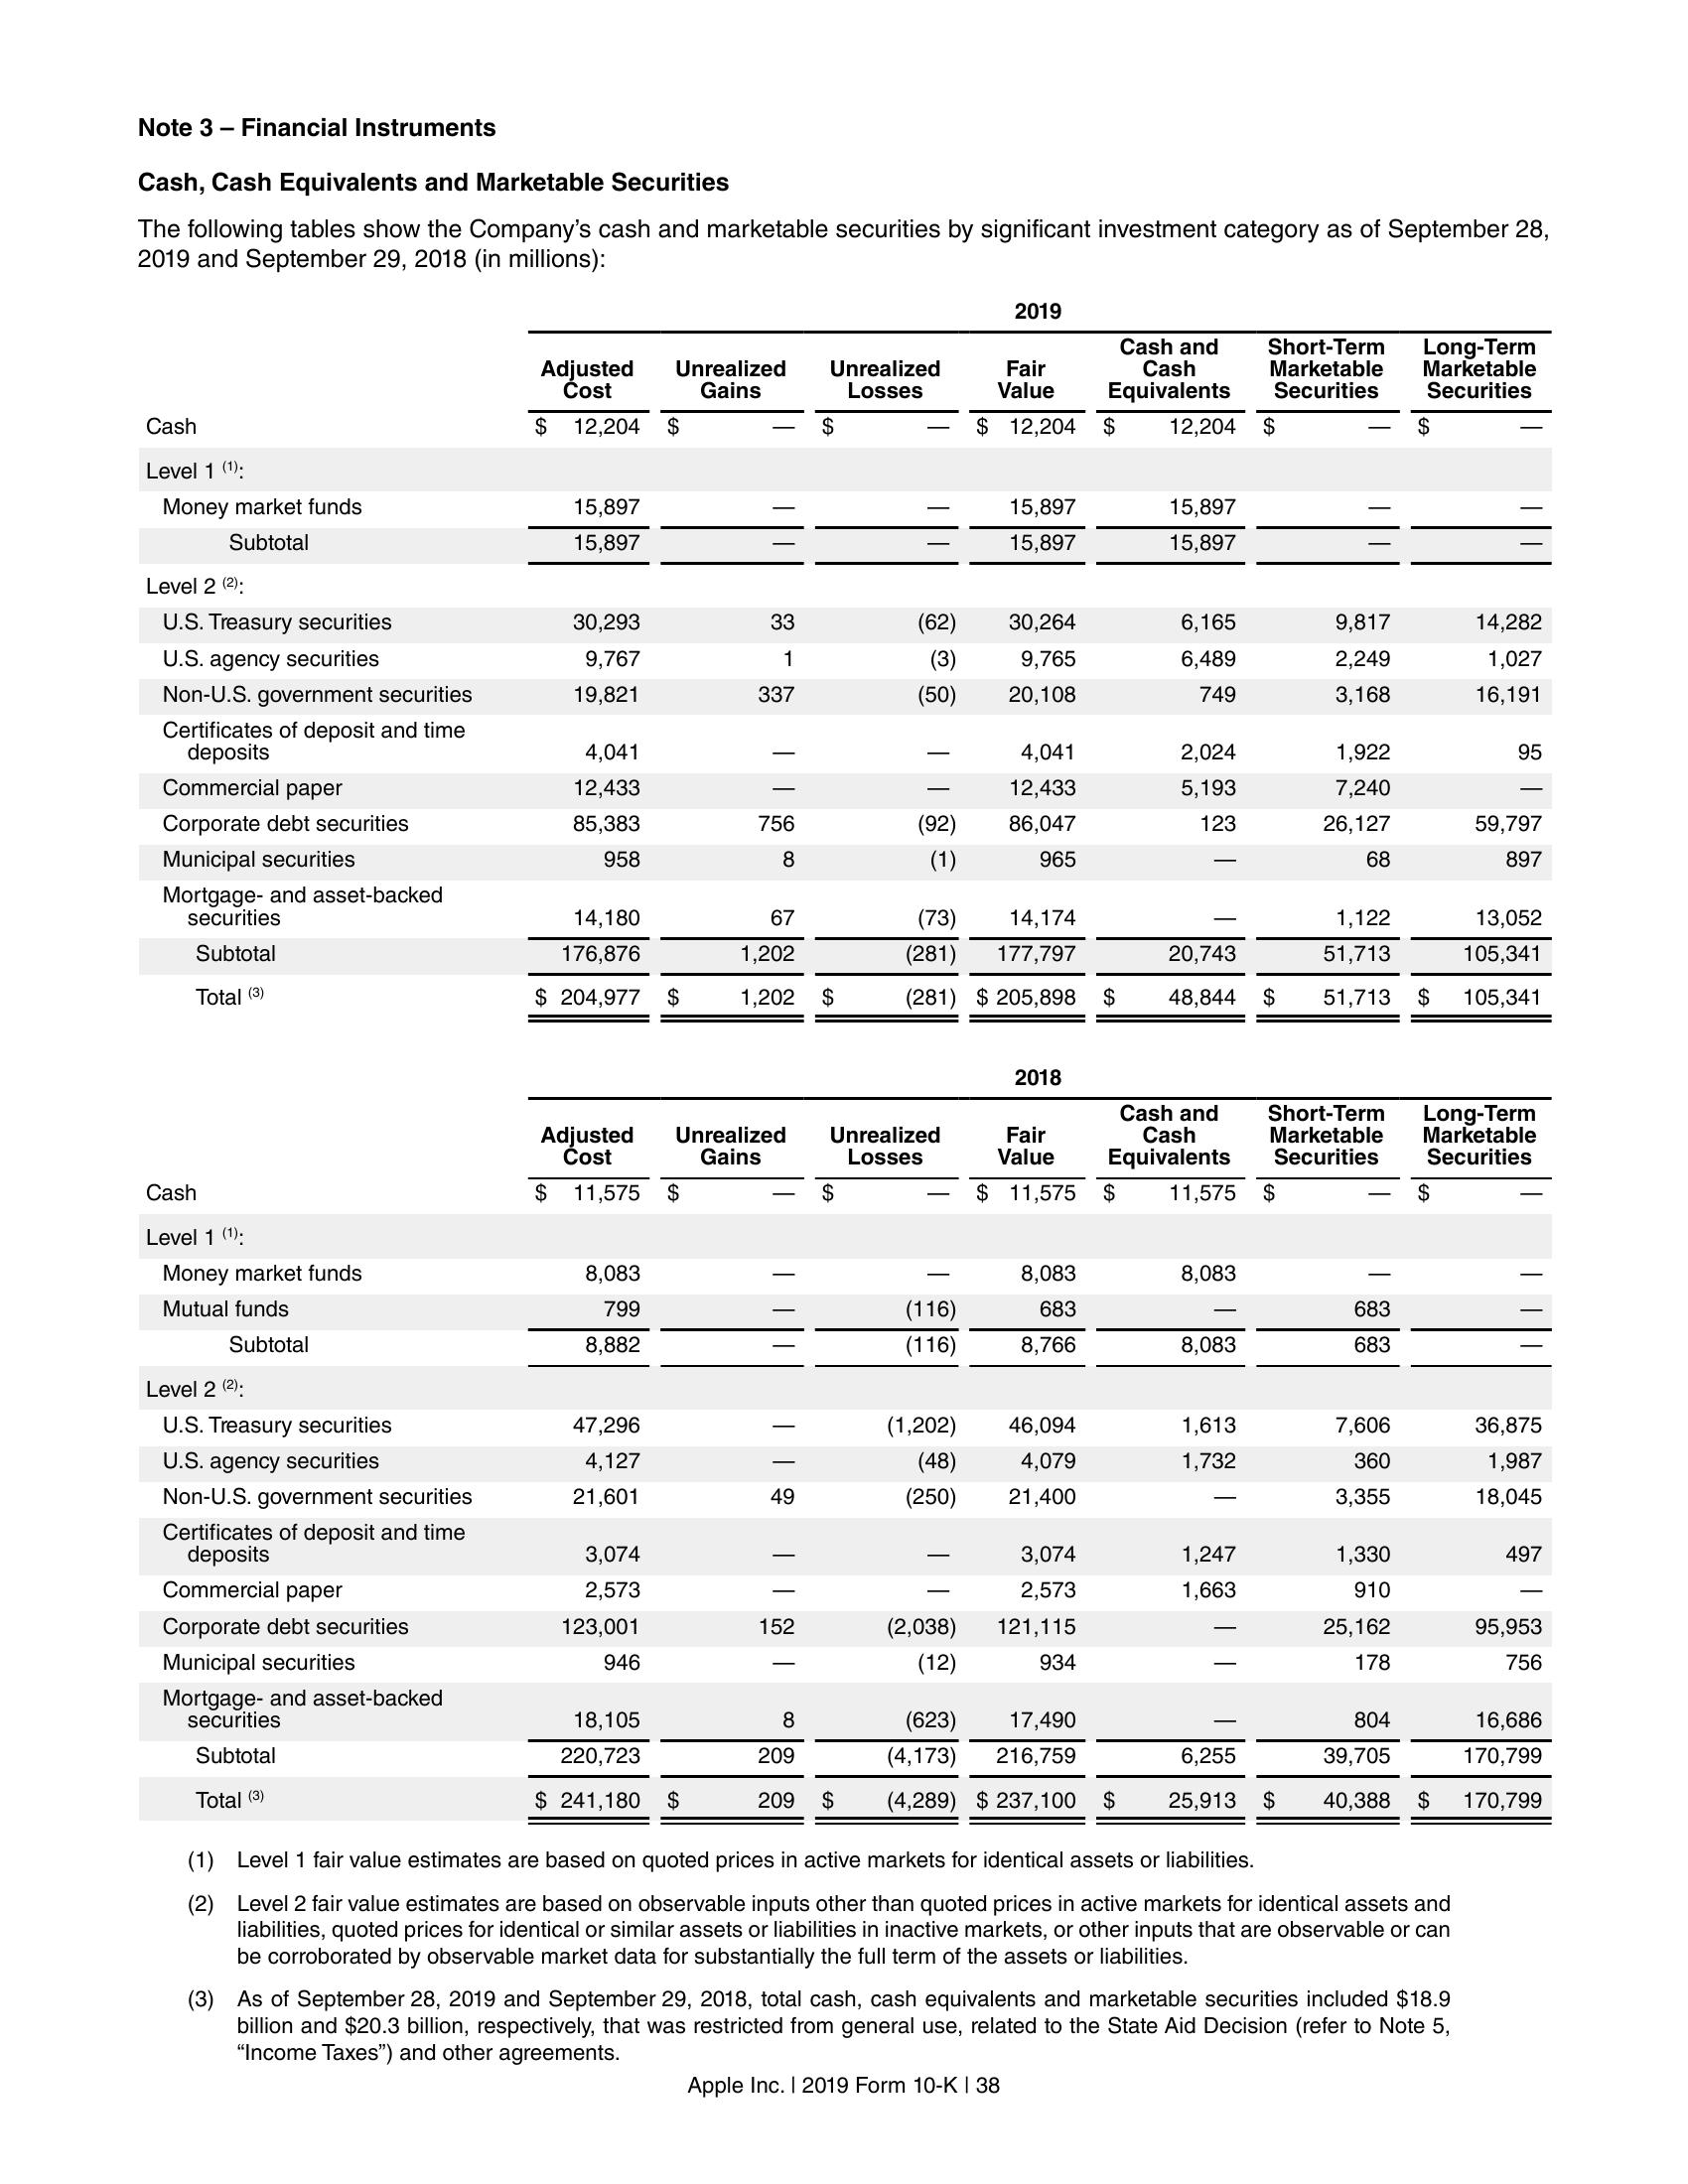table: (142, 1065, 1562, 1831), (142, 294, 1557, 1030)
